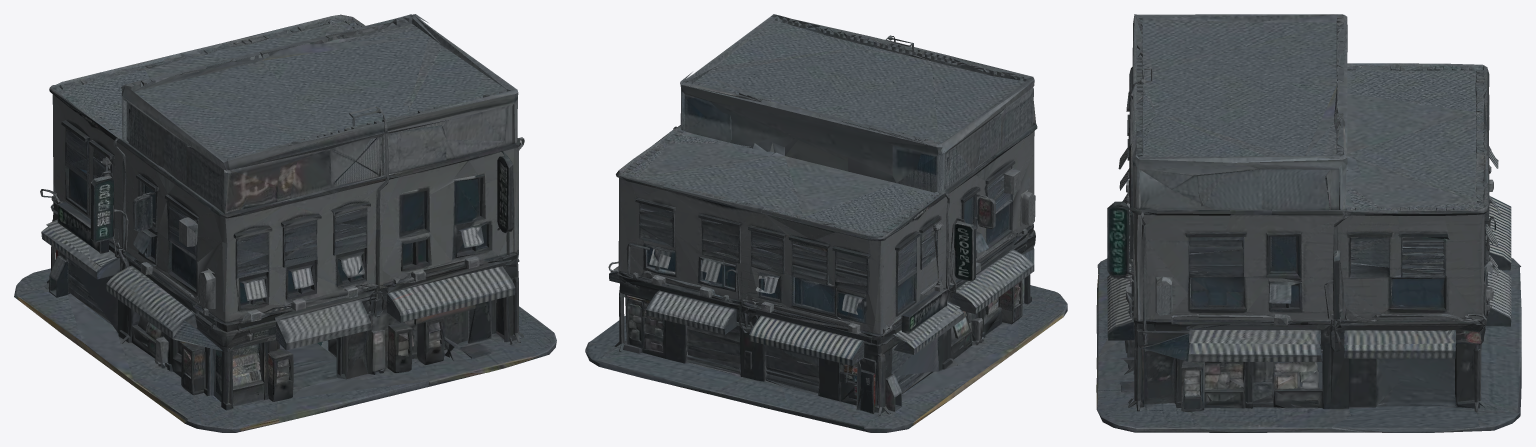
File: mx_bld_shoprow.glb
3 views of the same model, side by side, from view 1: azimuth 30°, elevation 25°; view 2: azimuth 150°, elevation 25°; view 3: azimuth 270°, elevation 25° (orthographic). The views are drawn at different scales.
Bounding box in the file's own units: 1.9 × 1.33 × 1.9.
1 material, 1 textured.
